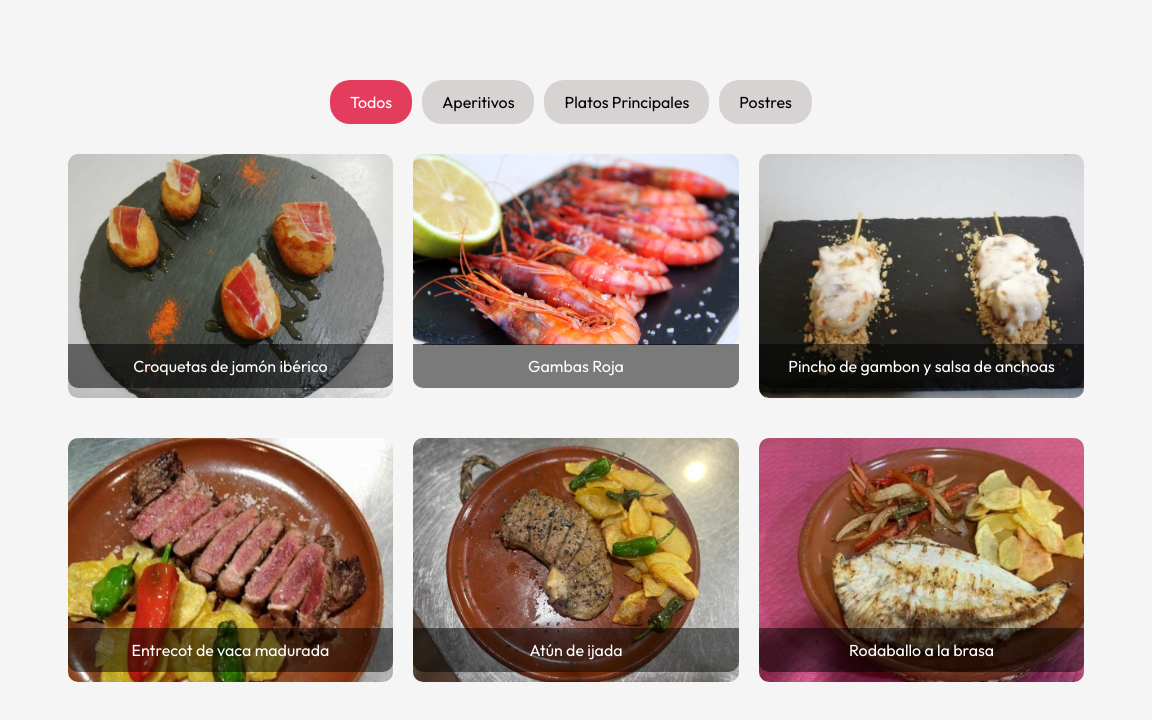
Test: Gastronomy › filters to only Postres
Click the button "Postres" at (766, 102), box x1=719 y1=80 x2=812 y2=124
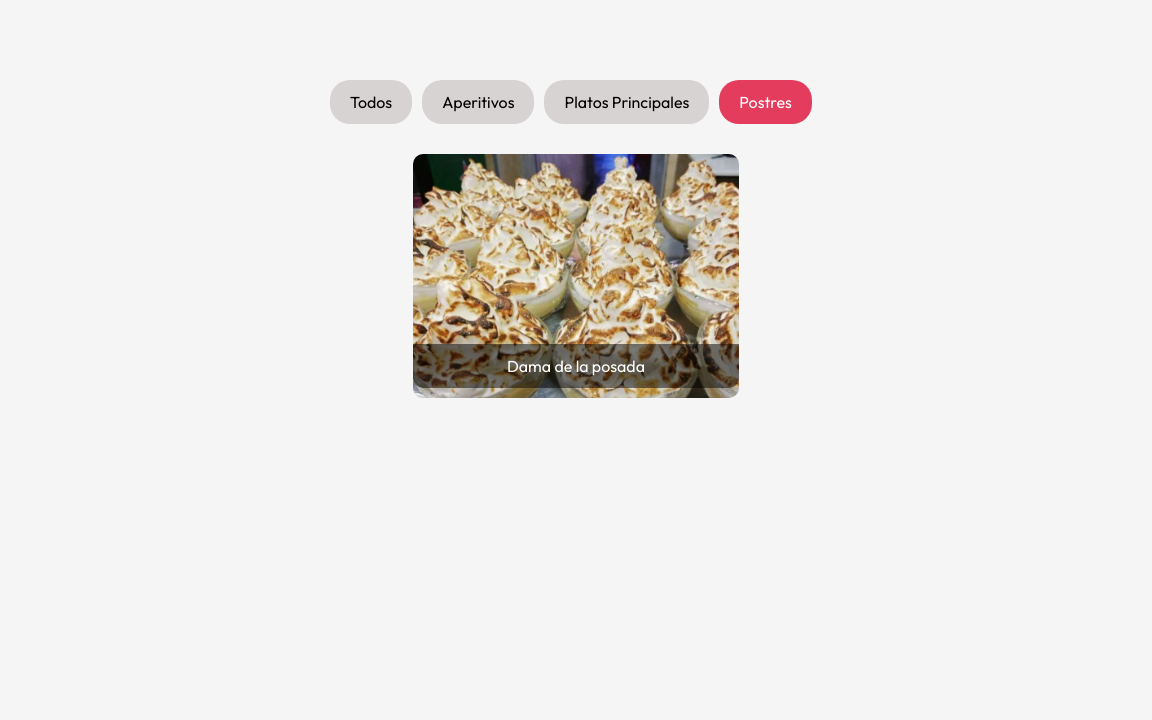
Expected: the number of pictures is 1, x1=413 y1=154 x2=739 y2=398
